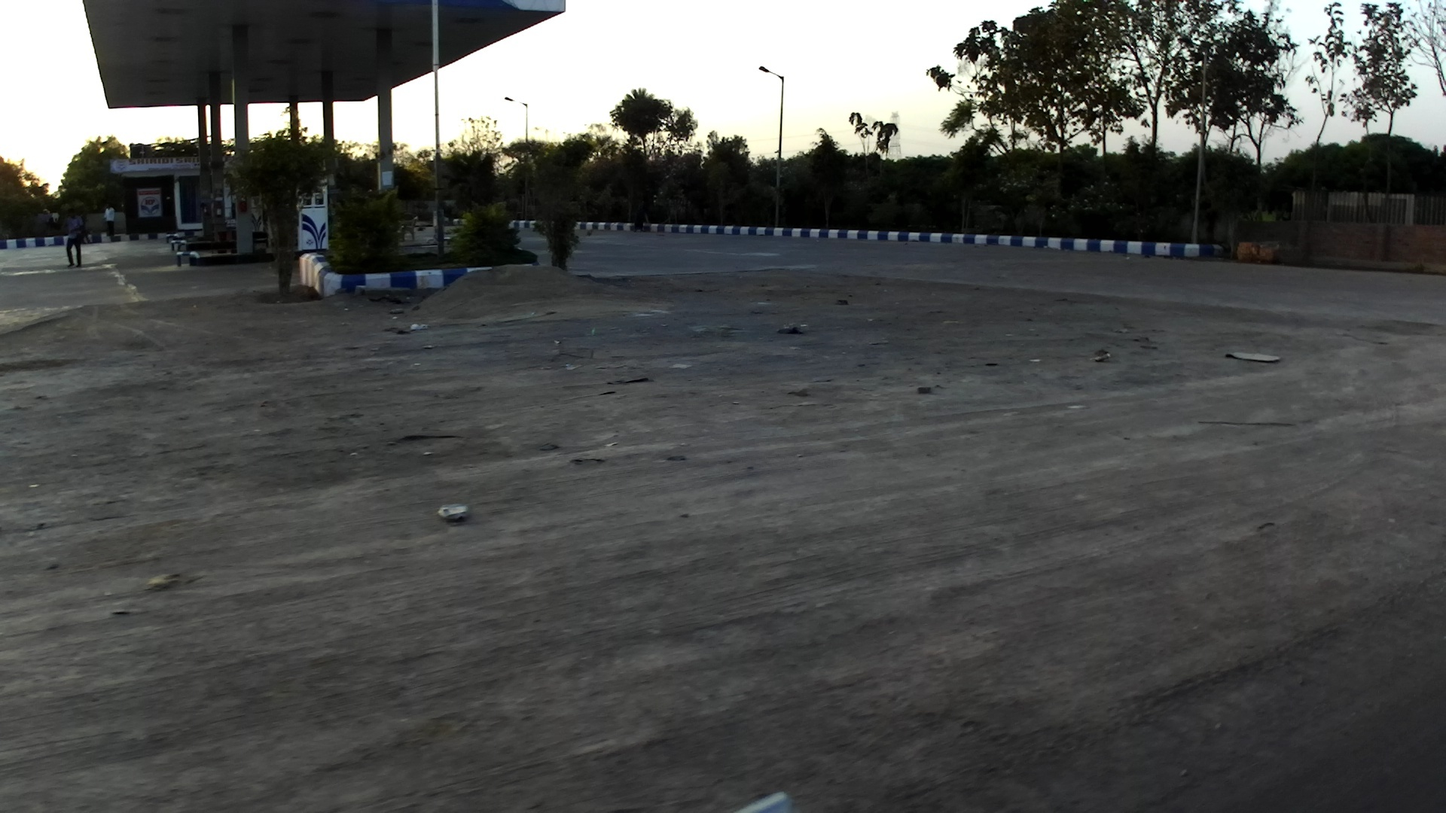car: (63, 206, 85, 268), (103, 202, 116, 236)
